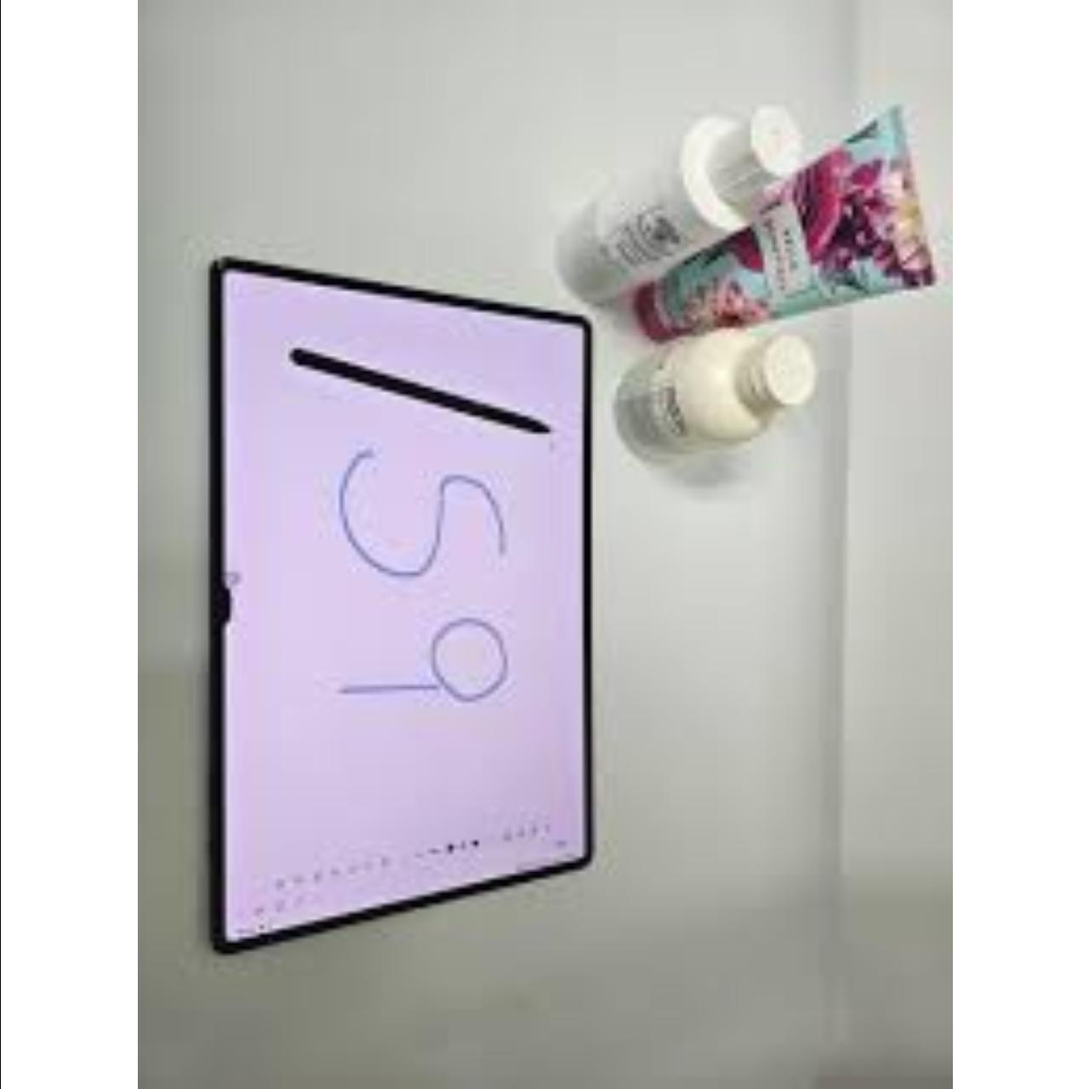Tablet_PC: (201, 255, 596, 961)
